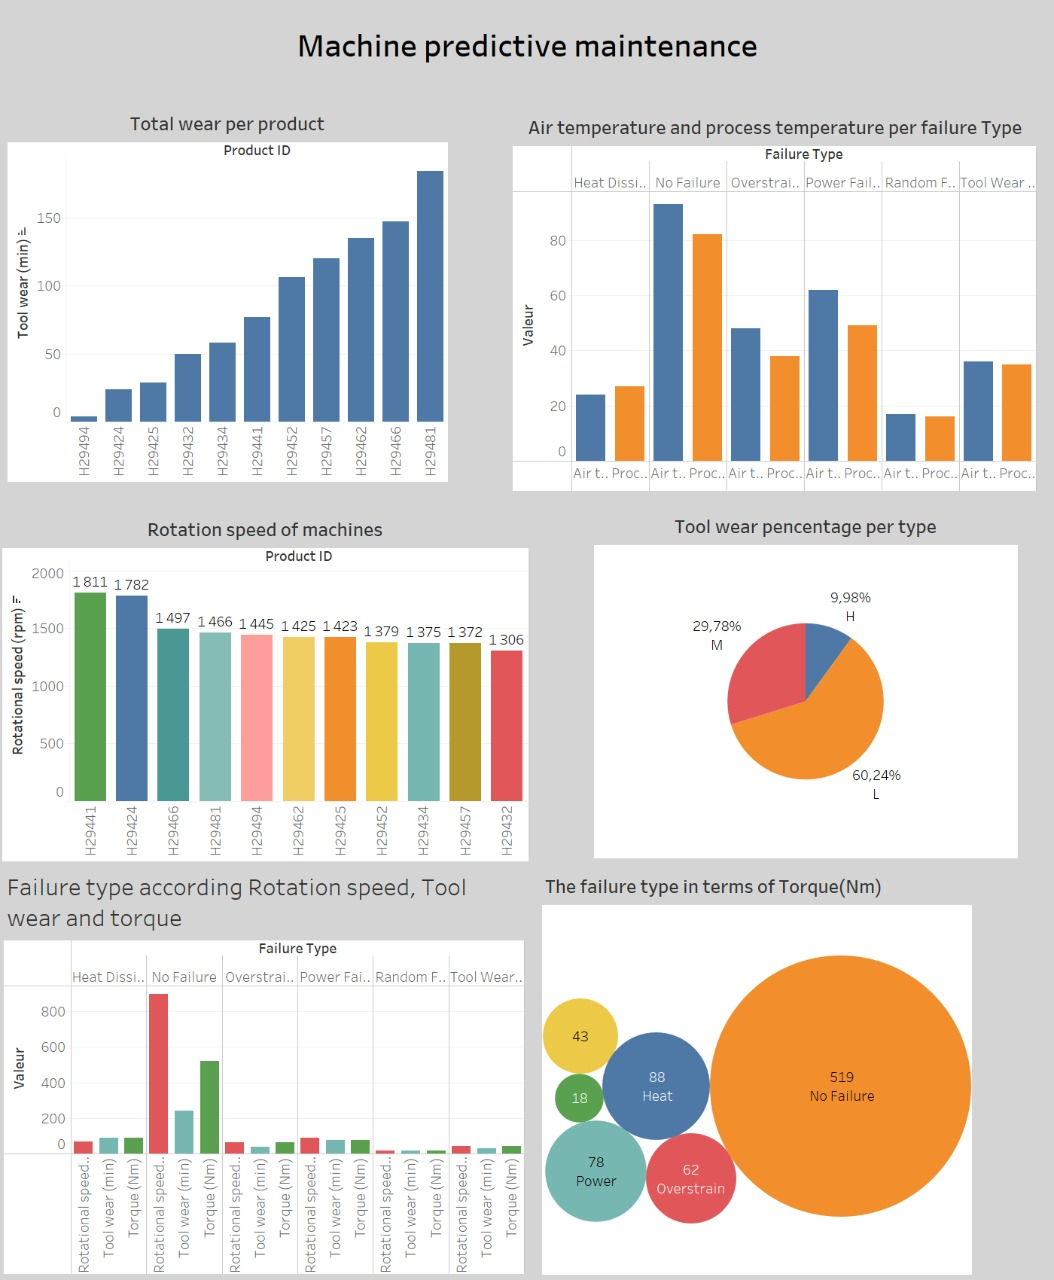

The page's visual inventory and layout, read from the dashboard file:
{"tool":"tableau","page":{"name":"Tableau de bord 1","canvas":[1400,1700],"ordinal":0},"visuals":[{"type":"worksheet","title":"Feuille 2","mark":"Automatic","rows":["Tool wear (min)"],"cols":["Product ID"],"box":[10,141,584,499]},{"type":"worksheet","title":"Feuille 5","mark":"Automatic","cols":["Failure Type"],"box":[681,146,697,507]},{"type":"worksheet","title":"Feuille 3","mark":"Pie","box":[789,676,562,463]},{"type":"worksheet","title":"Feuille 1","mark":"Automatic","rows":["Rotational speed (rpm)"],"cols":["Product ID"],"box":[3,680,698,464]},{"type":"worksheet","title":"Feuille 7","mark":"Automatic","cols":["Failure Type"],"box":[5,1150,692,543]},{"type":"worksheet","title":"Feuille 6","mark":"Circle","box":[720,1154,574,538]}]}

Visuals, with their boxes in screenshot pixels (x1, y1, x2, y2), scaled from the page's 1400x1700 canvas onto the 1054x1280 screenshot:
"Feuille 2" worksheet: (left=8, top=106, right=447, bottom=482)
"Feuille 5" worksheet: (left=513, top=110, right=1037, bottom=492)
"Feuille 3" worksheet (Pie marks): (left=594, top=509, right=1017, bottom=858)
"Feuille 1" worksheet: (left=2, top=512, right=528, bottom=861)
"Feuille 7" worksheet: (left=4, top=866, right=525, bottom=1275)
"Feuille 6" worksheet (Circle marks): (left=542, top=869, right=974, bottom=1274)
